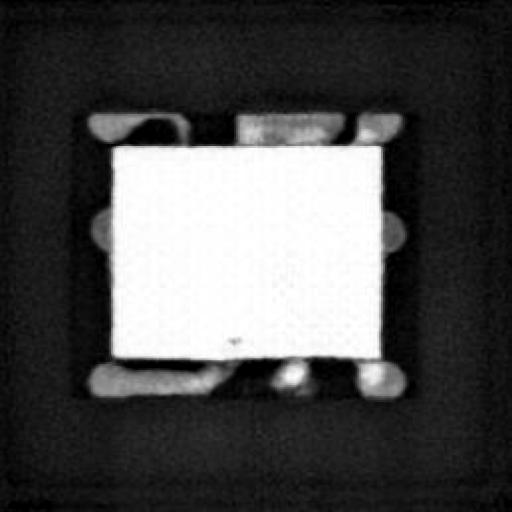DIE_INK: (222, 328, 244, 345)
